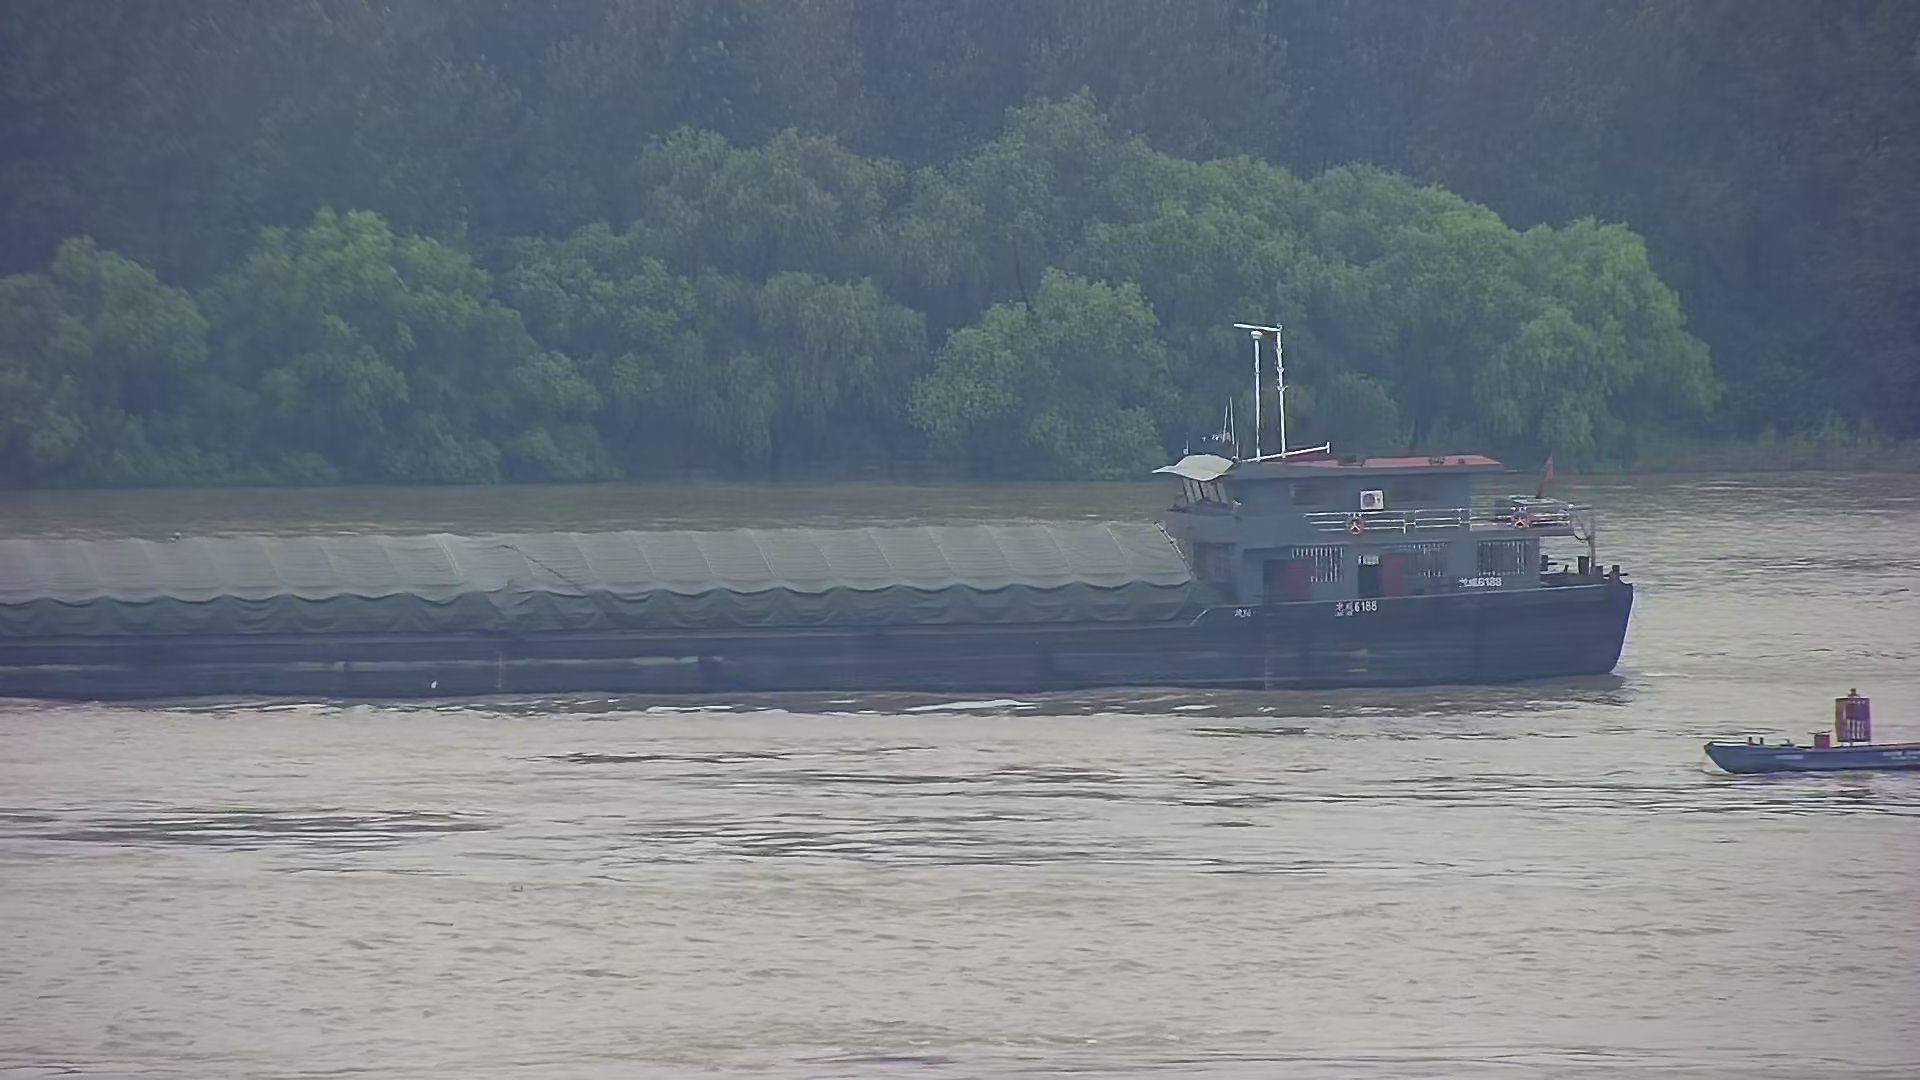boat: (1695, 680, 1920, 785)
ship: (1, 430, 1654, 703)
